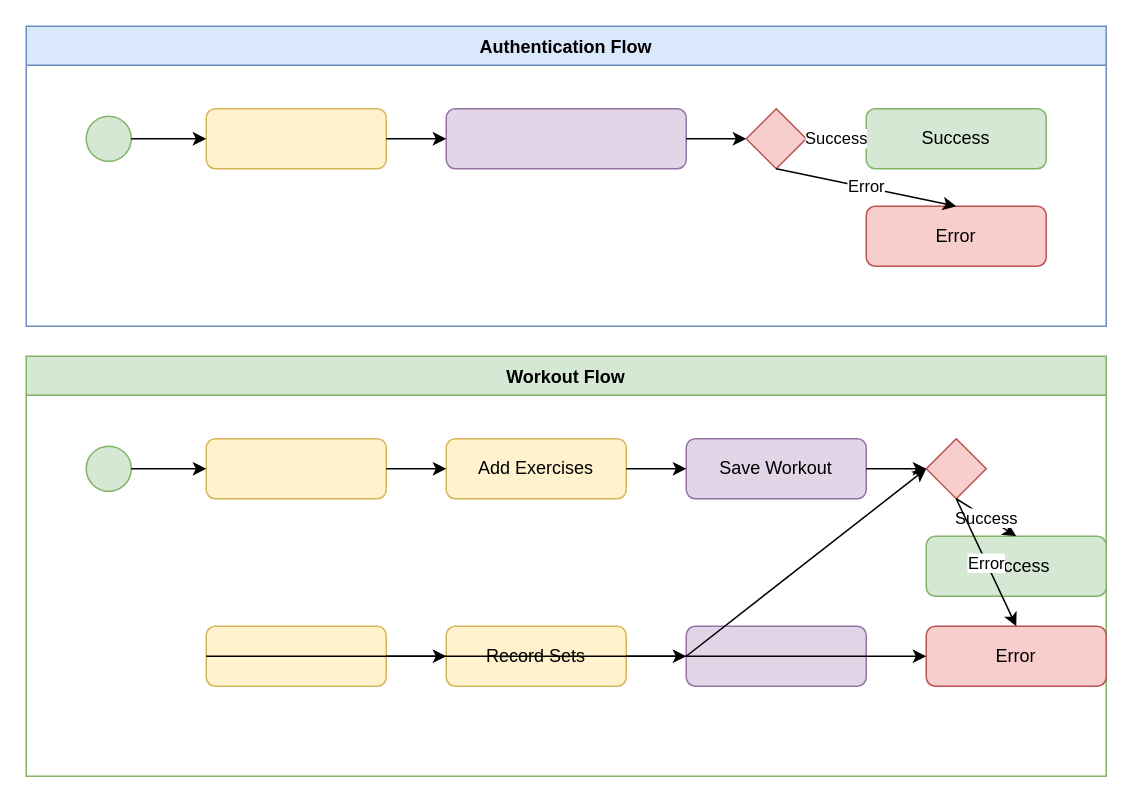
The diagram is 1133 pixels wide and 803 high, and some of its shapes have lost their labels. Here are the shapes that lost their labels. From the top down, the box of each, then its label:
(205, 107, 386, 169): Sign In Form
(445, 107, 686, 169): API Call to Supabase Auth
(205, 437, 386, 499): Create Workout
(205, 625, 386, 686): Start Workout
(685, 625, 866, 686): Complete Workout
